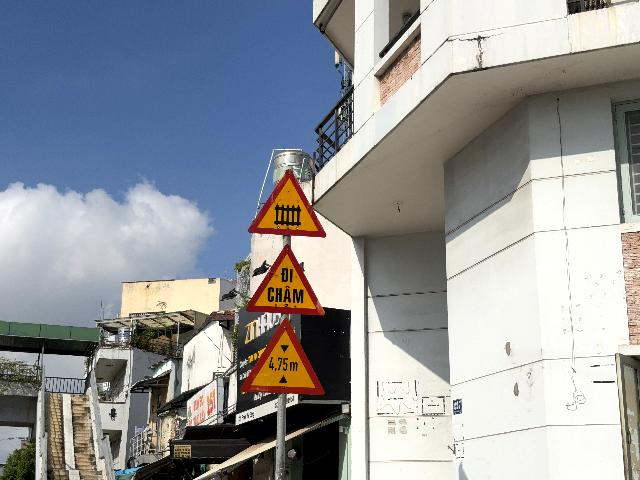chieu-cao-tinh-khong-thuc-te: (240, 318, 325, 395)
di-cham: (245, 243, 325, 316)
noi-giao-nhau-voi-duong-sat-co-rao-chan: (248, 167, 328, 237)
